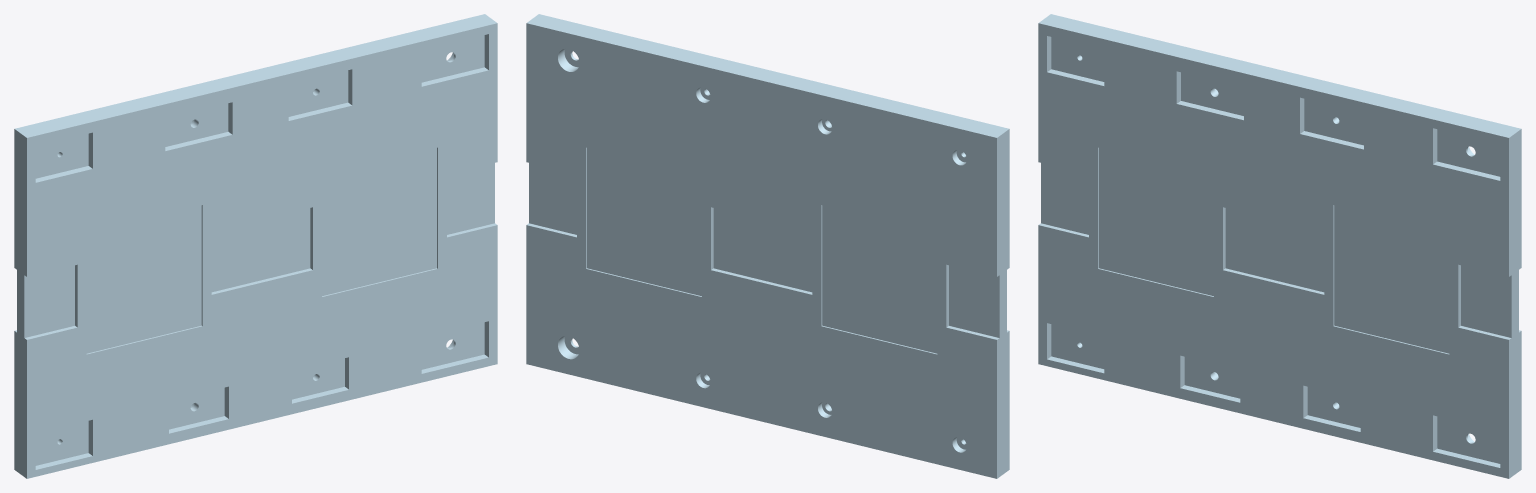
File: BaseBoard.gltf
3 renders of one model, left to right at view 1: azimuth 30°, elevation 25°; view 2: azimuth 150°, elevation 25°; view 3: azimuth 330°, elevation 25°, orthographic.
Visible parts, largest first — view 1: Part 1; view 2: Part 1; view 3: Part 1.
Boxes of the visible parts, bbox=[...] form: Part 1: bbox=[14, 14, 497, 478]; Part 1: bbox=[526, 14, 1009, 478]; Part 1: bbox=[1038, 14, 1521, 478].
Size of the model in its own units: 0.325 by 0.225 by 0.015.
